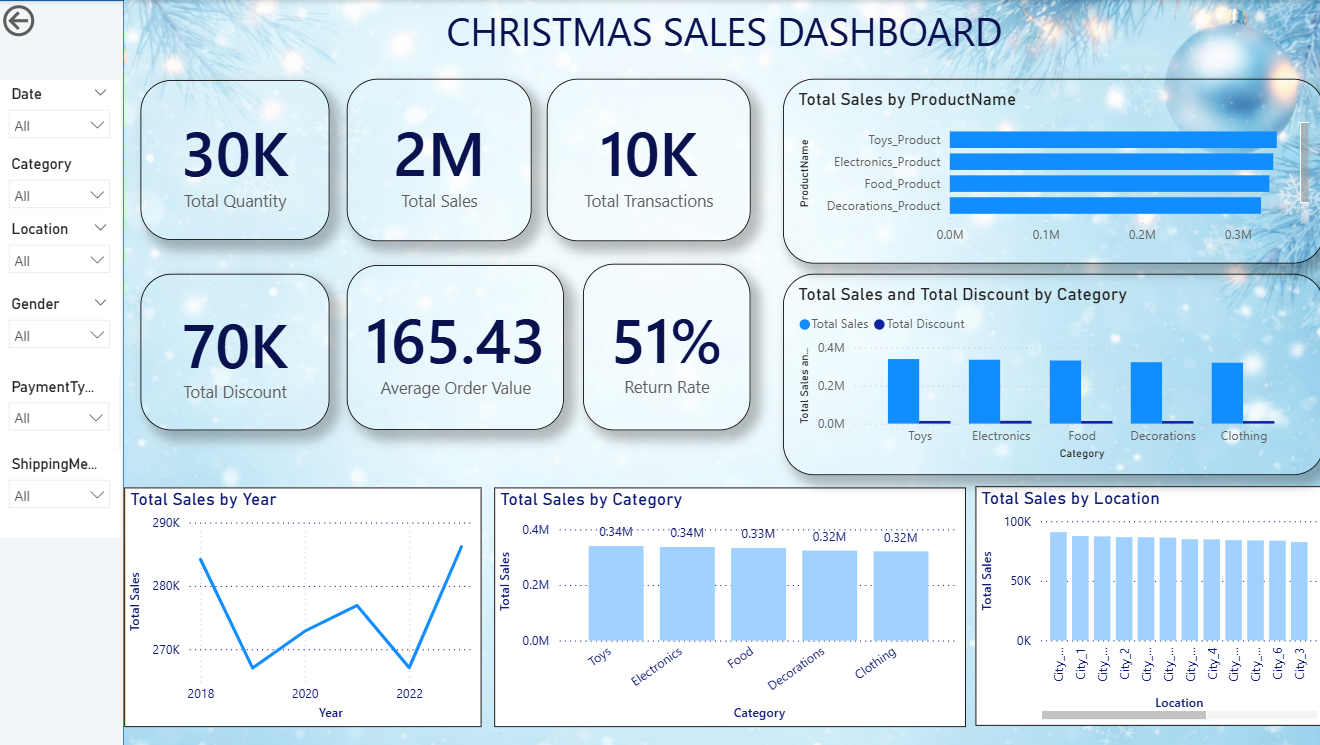

This screenshot's page, from the dashboard's own definition file:
{"tool":"powerbi","page":{"name":"Page 1","canvas":[1280,720],"ordinal":0},"visuals":[{"type":"shape","box":[0,0,121.9,720.2],"z":0},{"type":"slicer","fields":{"Values":["sales data cleaned.Date"]},"box":[0,77.2,118.2,70],"z":1000},{"type":"slicer","fields":{"Values":["sales data cleaned.Category"]},"box":[0,144.8,118.2,62.7],"z":2000},{"type":"slicer","fields":{"Values":["sales data cleaned.Location"]},"box":[0,207.5,118.2,72.4],"z":3000},{"type":"actionButton","box":[0,0,100,40],"z":4000},{"type":"card","fields":{"Values":["sales data cleaned.Total Sales"]},"box":[336.6,76,178.6,156.8],"z":5000},{"type":"card","fields":{"Values":["sales data cleaned.Total Quantity"]},"box":[137.5,77.2,182.2,154.4],"z":6000},{"type":"card","fields":{"Values":["sales data cleaned.Total Transactions"]},"box":[529.6,76,196.6,156.8],"z":7000},{"type":"card","fields":{"Values":["sales data cleaned.Total Discount"]},"box":[137.5,264.2,182.2,150.8],"z":8000},{"type":"card","fields":{"Values":["sales data cleaned.Average Order Value"]},"box":[336.6,255.8,209.9,159.3],"z":9000},{"type":"card","fields":{"Values":["sales data cleaned.Return Rate"]},"box":[564.6,254.6,161.7,160.5],"z":10000},{"type":"lineChart","fields":{"Y":["sales data cleaned.Total Sales"],"Category":["sales data cleaned.Date.Variation.Date Hierarchy.Year","sales data cleaned.Date.Variation.Date Hierarchy.Quarter","sales data cleaned.Date.Variation.Date Hierarchy.Month","sales data cleaned.Date.Variation.Date Hierarchy.Day"]},"box":[122.3,470.8,344.8,231.1],"z":11000},{"type":"clusteredColumnChart","fields":{"Category":["sales data cleaned.Category"],"Y":["sales data cleaned.Total Sales"]},"box":[479.4,470.8,454.9,231.1],"z":12000},{"type":"clusteredColumnChart","fields":{"Category":["sales data cleaned.Location"],"Y":["sales data cleaned.Total Sales"]},"box":[944,469.6,336.3,231.1],"z":13000},{"type":"clusteredBarChart","fields":{"Category":["sales data cleaned.ProductName"],"Y":["sales data cleaned.Total Sales"]},"box":[757.6,76,522.4,178.6],"z":14000},{"type":"clusteredColumnChart","fields":{"Category":["sales data cleaned.Category"],"Y":["sales data cleaned.Total Sales","sales data cleaned.Total Discount"]},"box":[757.6,264.2,522.4,194.2],"z":15000},{"type":"slicer","fields":{"Values":["sales data cleaned.Gender"]},"box":[0,279.9,118.2,79.6],"z":16000},{"type":"slicer","fields":{"Values":["sales data cleaned.PaymentType"]},"box":[0,359.5,117,74.8],"z":17000},{"type":"slicer","fields":{"Values":["sales data cleaned.ShippingMethod"]},"box":[0,434.3,118.2,84.5],"z":18000},{"type":"textbox","box":[121.9,0,1158.2,63.9],"z":19000}]}

Visuals, with their boxes on the page's 1280x720 design canvas (x1, y1, x2, y2). These are canvas units, not pixel positions in the 1320x745 screenshot, which may show the page scaled, cropped or inside an application window:
shape: <bbox>0, 0, 122, 720</bbox>
slicer - sales data cleaned.Date: <bbox>0, 77, 118, 147</bbox>
slicer - sales data cleaned.Category: <bbox>0, 145, 118, 208</bbox>
slicer - sales data cleaned.Location: <bbox>0, 208, 118, 280</bbox>
actionButton: <bbox>0, 0, 100, 40</bbox>
card - sales data cleaned.Total Sales: <bbox>337, 76, 515, 233</bbox>
card - sales data cleaned.Total Quantity: <bbox>138, 77, 320, 232</bbox>
card - sales data cleaned.Total Transactions: <bbox>530, 76, 726, 233</bbox>
card - sales data cleaned.Total Discount: <bbox>138, 264, 320, 415</bbox>
card - sales data cleaned.Average Order Value: <bbox>337, 256, 546, 415</bbox>
card - sales data cleaned.Return Rate: <bbox>565, 255, 726, 415</bbox>
lineChart - sales data cleaned.Total Sales x sales data cleaned.Date.Variation.Date Hierarchy.Year: <bbox>122, 471, 467, 702</bbox>
clusteredColumnChart - sales data cleaned.Category x sales data cleaned.Total Sales: <bbox>479, 471, 934, 702</bbox>
clusteredColumnChart - sales data cleaned.Location x sales data cleaned.Total Sales: <bbox>944, 470, 1280, 701</bbox>
clusteredBarChart - sales data cleaned.ProductName x sales data cleaned.Total Sales: <bbox>758, 76, 1280, 255</bbox>
clusteredColumnChart - sales data cleaned.Category x sales data cleaned.Total Sales: <bbox>758, 264, 1280, 458</bbox>
slicer - sales data cleaned.Gender: <bbox>0, 280, 118, 360</bbox>
slicer - sales data cleaned.PaymentType: <bbox>0, 360, 117, 434</bbox>
slicer - sales data cleaned.ShippingMethod: <bbox>0, 434, 118, 519</bbox>
textbox: <bbox>122, 0, 1280, 64</bbox>
